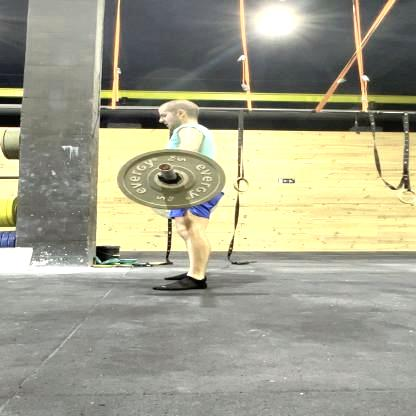barbell: (118, 150, 228, 211)
